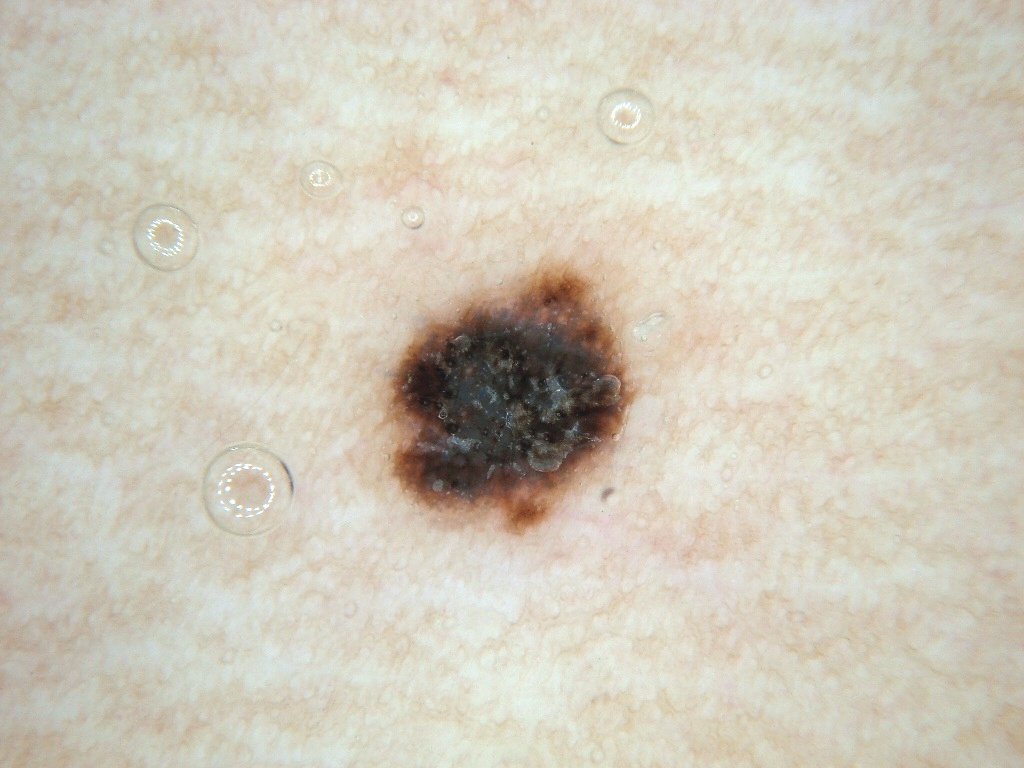Detected Lesion: (371, 264, 652, 548)
